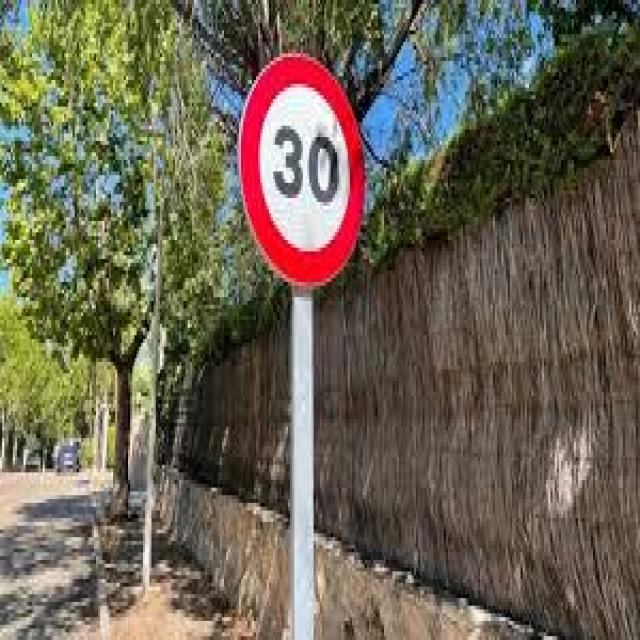Speed limit 30: (236, 47, 368, 291)
